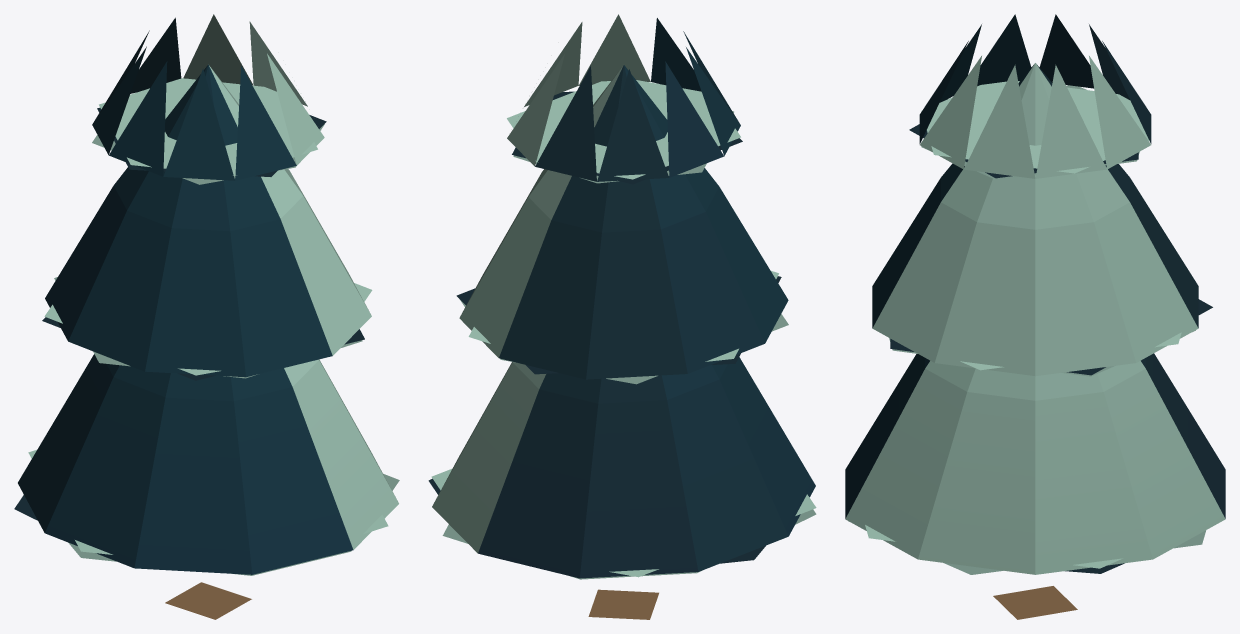
Rendered from pine-lo.glb.
3 renders of one model, left to right at view 1: azimuth 30°, elevation 25°; view 2: azimuth 150°, elevation 25°; view 3: azimuth 270°, elevation 25°, orthographic.
Visible parts, largest first — view 1: root_mesh; view 2: root_mesh; view 3: root_mesh.
Part boxes in pixels (box(x1,y1,x2,y2)): root_mesh: box(14, 14, 399, 619); root_mesh: box(428, 14, 816, 619); root_mesh: box(845, 14, 1225, 619).
Bounding box in the file's own units: 2.1 × 3.43 × 2.1.
